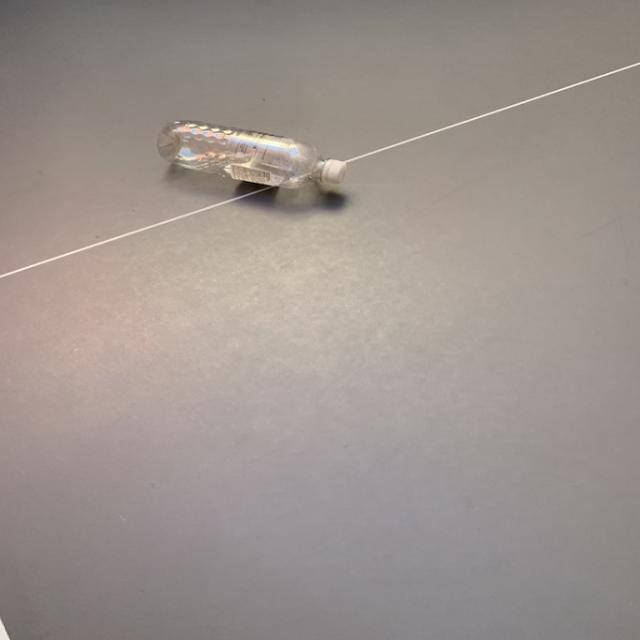Waste: (158, 121, 346, 188)
